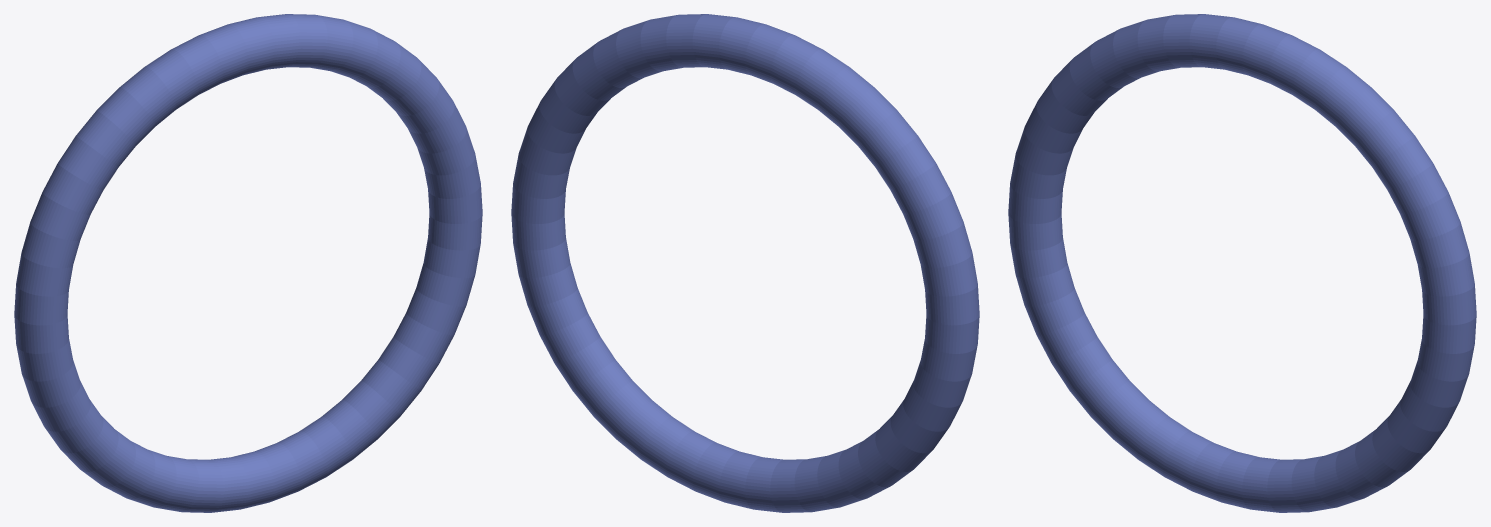
3 renders of one model, left to right at view 1: azimuth 30°, elevation 25°; view 2: azimuth 150°, elevation 25°; view 3: azimuth 330°, elevation 25°, orthographic.
Parts seen in each view (by area): view 1: world; view 2: world; view 3: world.
Part boxes in pixels (left/top/right/bottom): world: left=14, top=14, right=482, bottom=512; world: left=511, top=14, right=979, bottom=512; world: left=1008, top=14, right=1476, bottom=512.
Bounding box in the file's own units: 20 × 19.96 × 2.
